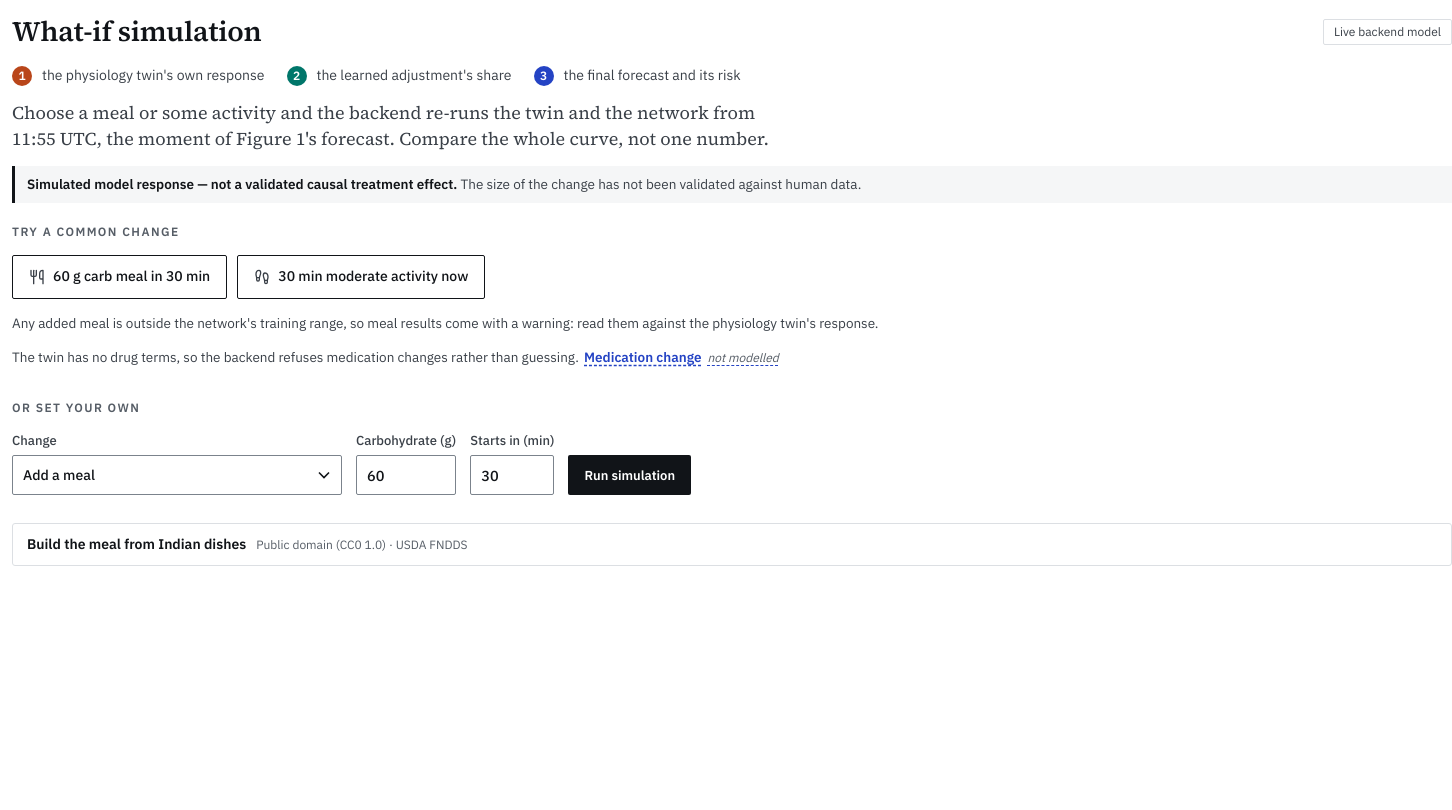
ScenarioEditor — backend-driven what-if › keeps medication changes explicitly unsupported (SCENARIO_UNSUPPORTED from the backend)
Click the button "Medication change not modelled".
click(681, 363)  # box [582,347,781,379]
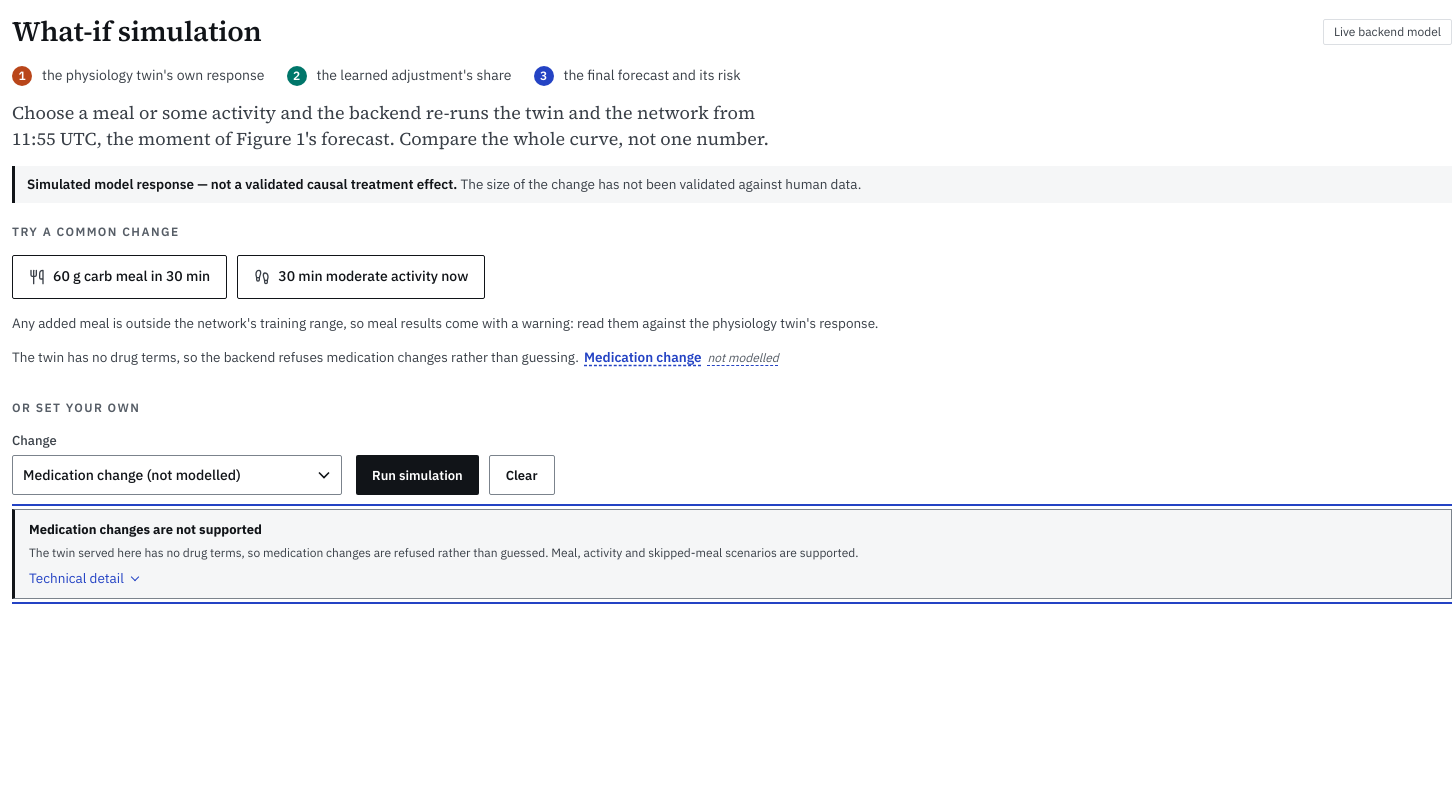
Expected: the element with test id "scenario-error" shows "Medication changes are not supported", [29,521,262,538]
